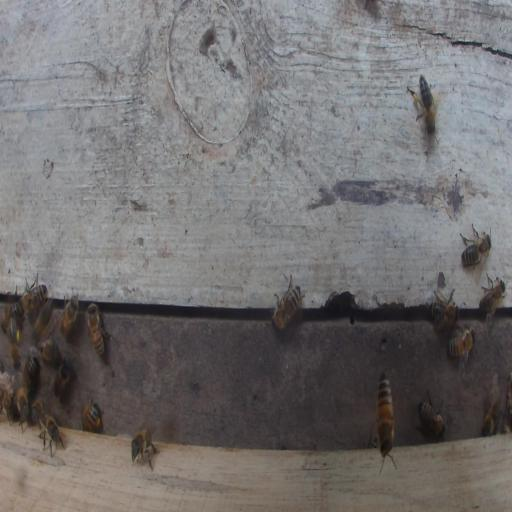bee: (373, 368, 397, 460), (85, 301, 114, 358), (459, 222, 492, 267), (272, 283, 302, 331), (413, 75, 436, 135), (479, 273, 506, 324), (430, 287, 459, 332), (37, 411, 65, 456), (417, 396, 446, 439), (19, 276, 47, 318), (130, 429, 156, 469), (59, 293, 79, 339), (447, 326, 474, 360), (51, 357, 72, 399), (1, 301, 24, 333), (8, 318, 22, 370), (482, 399, 501, 436), (33, 305, 53, 339), (38, 335, 59, 364), (82, 402, 100, 433), (23, 358, 36, 391), (17, 387, 29, 421), (30, 400, 44, 423), (1, 391, 13, 416)
